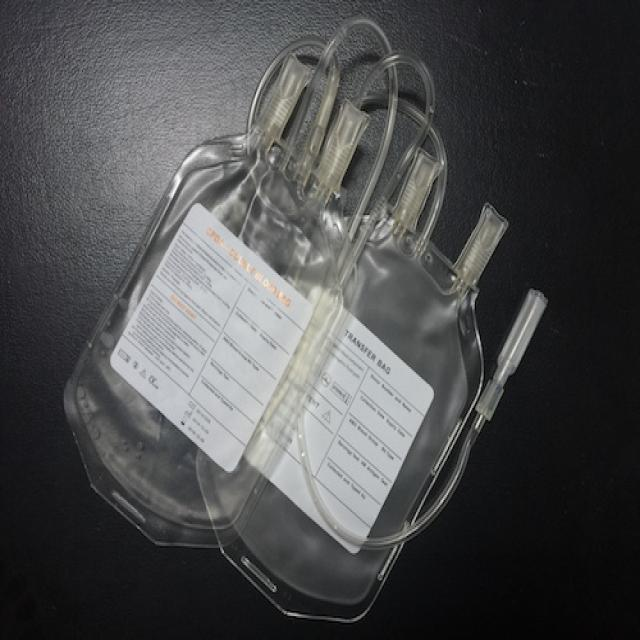B3: (66, 68, 357, 542)
